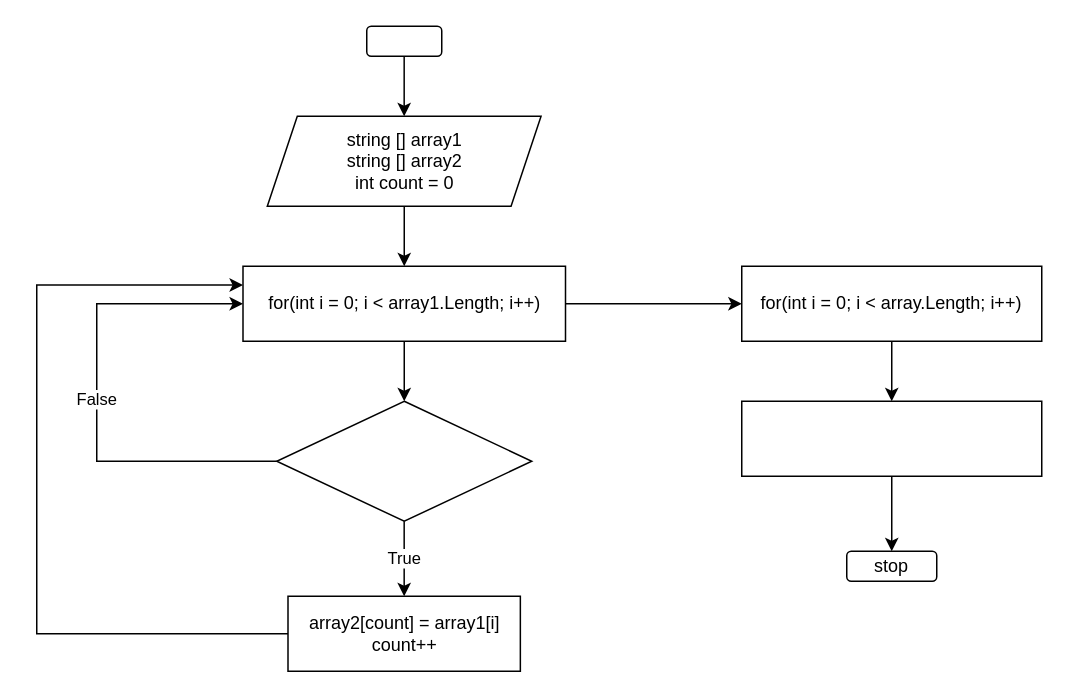
This 1068x698 diagram has some shape labels left out. The shapes that lost their labels are listed below. From the top down, each one's centre as x and y in pixels, then its label:
pixel 403 40: start
pixel 891 438: Console.Write($"{array[i]} ")
pixel 403 460: array1[i].Length <= 3?
